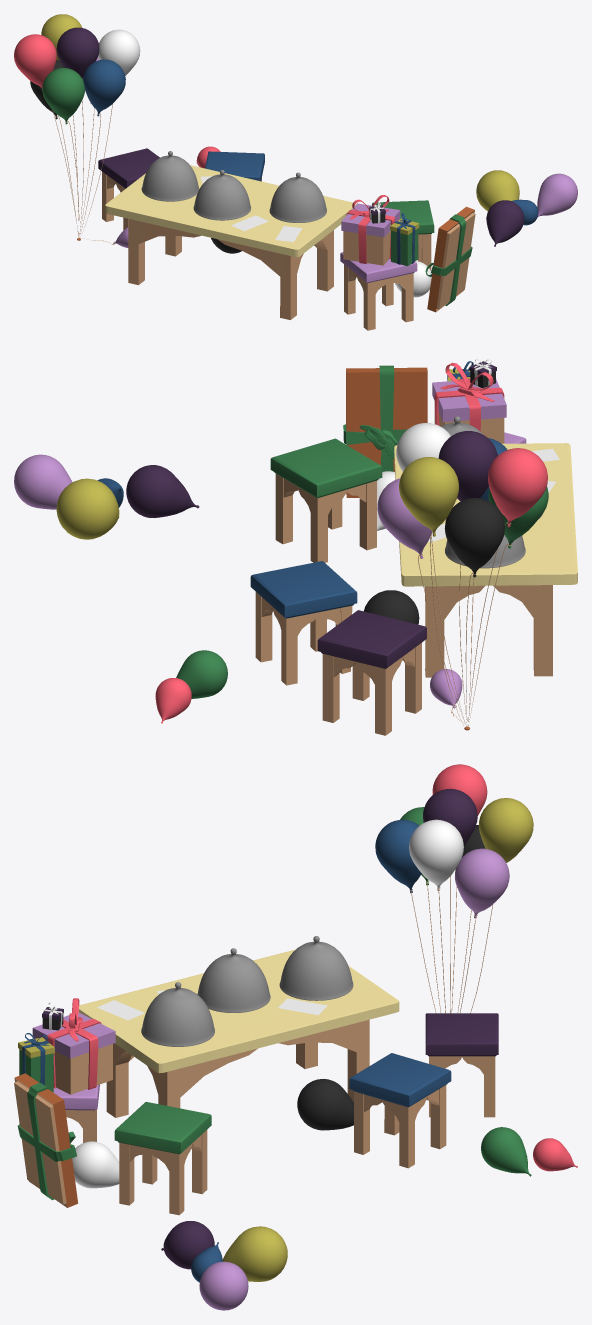
The model's file is party.fbx.
The picture shows the model from 3 angles, top to bottom: view 1: azimuth 30°, elevation 25°; view 2: azimuth 150°, elevation 25°; view 3: azimuth 270°, elevation 25°; orthographic projection. The views are drawn at different scales.
Visible parts, largest first — view 1: Masa; view 2: Masa; view 3: Masa.
Part boxes in pixels (x1,y1,x2,y2): Masa: (14, 14, 577, 330); Masa: (14, 359, 577, 735); Masa: (14, 764, 577, 1310).
Bounding box in the file's own units: 2513 × 1095 × 2052.
